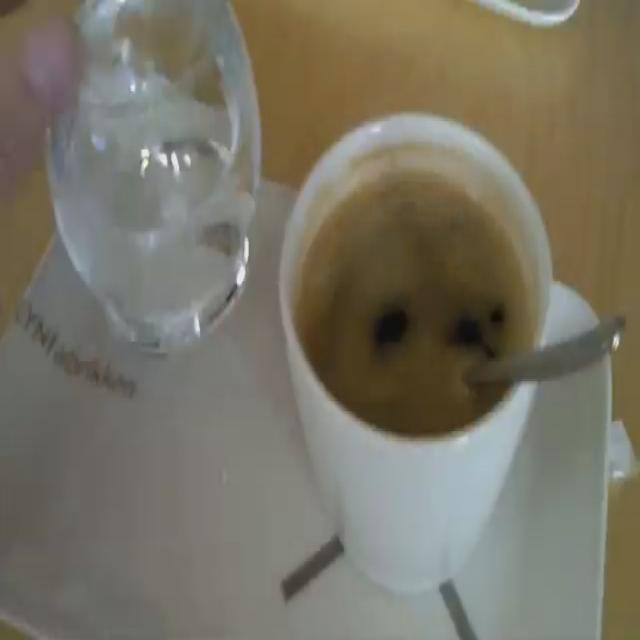Coffee: (297, 170, 535, 432)
